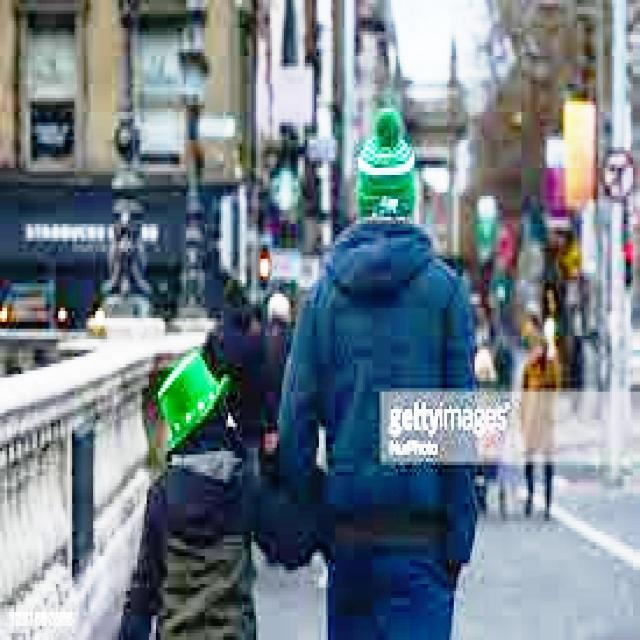TOPI: (349, 98, 424, 227), (149, 339, 230, 451)
